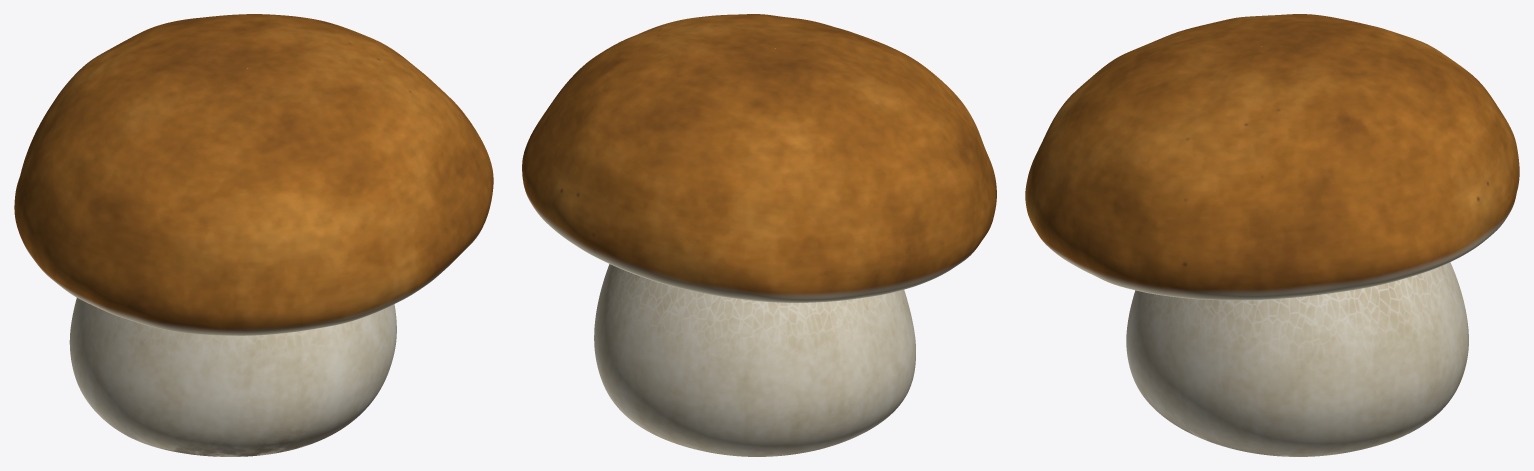
The model's file is boletus-edulis.glb.
3 views of the same model, side by side, from view 1: azimuth 30°, elevation 25°; view 2: azimuth 150°, elevation 25°; view 3: azimuth 270°, elevation 25° (orthographic). The views are drawn at different scales.
Visible parts, largest first — view 1: cap, stem; view 2: cap, stem; view 3: cap, stem.
Part boxes in pixels (x1=…): cap: x1=14, y1=14, x2=493, y2=335; stem: x1=69, y1=298, x2=396, y2=456; cap: x1=522, y1=14, x2=996, y2=302; stem: x1=594, y1=264, x2=915, y2=456; cap: x1=1025, y1=14, x2=1519, y2=300; stem: x1=1126, y1=262, x2=1468, y2=456.
Bounding box in the file's own units: 0.1389 × 0.1181 × 0.1406.
2 materials, 2 textured.
